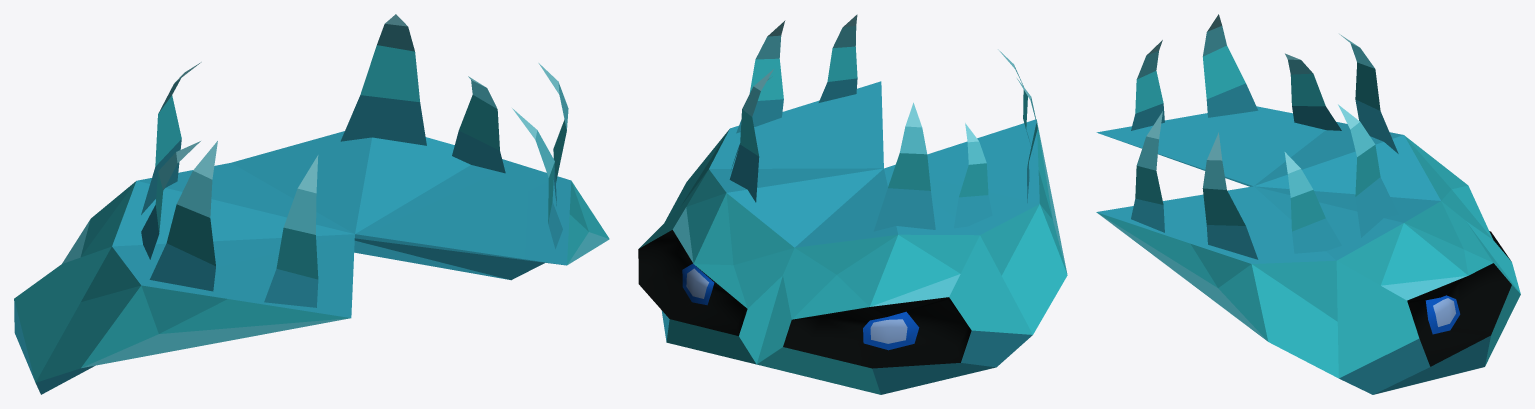
The model's file is hat_iceCrown.glb.
3 renders of one model, left to right at view 1: azimuth 30°, elevation 25°; view 2: azimuth 150°, elevation 25°; view 3: azimuth 270°, elevation 25°, orthographic. The views are drawn at different scales.
Visible parts, largest first — view 1: hat_iceCrown; view 2: hat_iceCrown; view 3: hat_iceCrown.
Boxes of the visible parts, x1,y1,x2,y2 form: hat_iceCrown: (14, 14, 609, 394); hat_iceCrown: (638, 14, 1067, 394); hat_iceCrown: (1096, 14, 1520, 394).
Bounding box in the file's own units: 0.3914 × 0.2277 × 0.3598.
